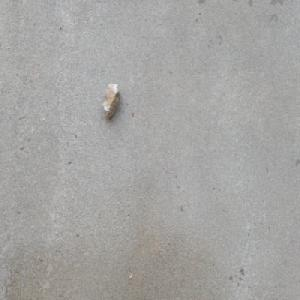Rock: (101, 82, 120, 121)
